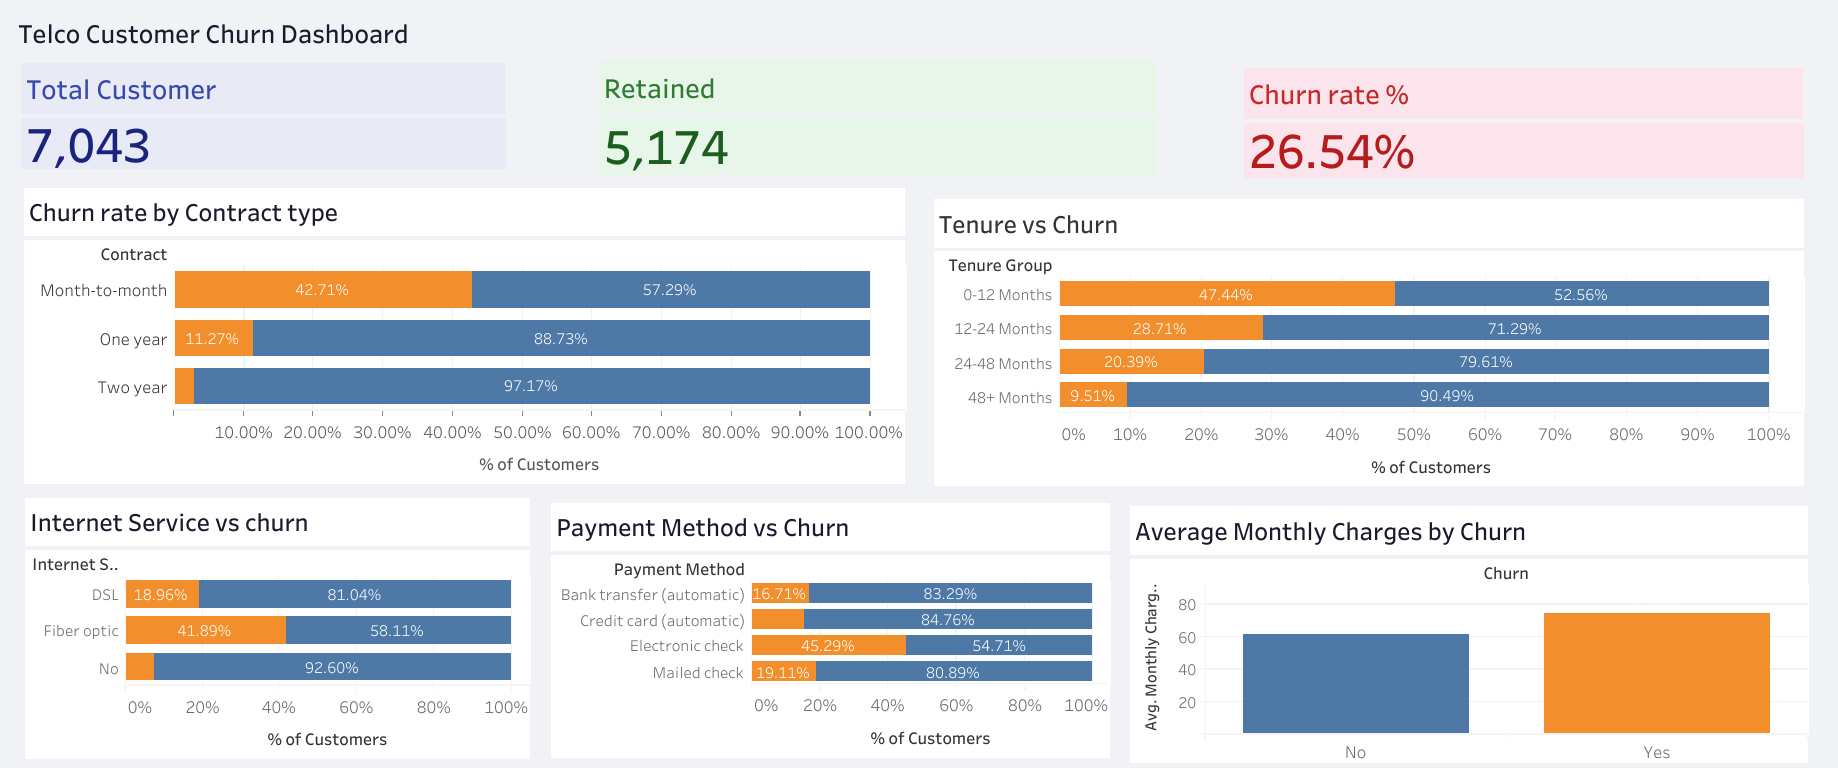

Layout of this report page (visuals, bound fields, positions):
{"tool":"tableau","page":{"name":"Dashboard 1","canvas":[1000,1000],"units":"permille","ordinal":0},"visuals":[{"type":"title","box":[6.1,13.9,987.8,62.7]},{"type":"worksheet","title":"churned customer","mark":"Automatic","box":[325.3,79.9,303.6,146.1]},{"type":"worksheet","title":"total  customer","mark":"Automatic","box":[11.5,81.2,263.1,136.1]},{"type":"worksheet","title":"churn rate","mark":"Automatic","box":[679.4,87.1,303.9,142.9]},{"type":"worksheet","title":"tenure vs churn","mark":"Automatic","rows":["Calculation_1408537793249289"],"box":[510.3,243.9,473.7,386.8]},{"type":"worksheet","title":"churn rate by contract type","mark":"Automatic","rows":["Contract"],"box":[12.7,244.7,479.2,384.5]},{"type":"worksheet","title":"internet service vs churn","mark":"Automatic","rows":["InternetService"],"box":[13.3,646.7,275.2,339.6]},{"type":"worksheet","title":"payment method vs churn","mark":"Automatic","rows":["PaymentMethod"],"box":[299.9,652.9,303.6,332.1]},{"type":"worksheet","title":"average monthly charges by churn","mark":"Bar","rows":["MonthlyCharges"],"cols":["Churn"],"box":[616.9,658.5,368.6,332.8]}]}

Visuals, with their boxes on the dashboard's canvas, which has no fixed pixel size, in thousandths of its width and height (x1, y1, x2, y2). These are canvas units, not pixel positions in the 1838x768 screenshot, which may show the page scaled, cropped or inside an application window:
title: (x1=6, y1=14, x2=994, y2=77)
"churned customer" worksheet: (x1=325, y1=80, x2=629, y2=226)
"total  customer" worksheet: (x1=12, y1=81, x2=275, y2=217)
"churn rate" worksheet: (x1=679, y1=87, x2=983, y2=230)
"tenure vs churn" worksheet: (x1=510, y1=244, x2=984, y2=631)
"churn rate by contract type" worksheet: (x1=13, y1=245, x2=492, y2=629)
"internet service vs churn" worksheet: (x1=13, y1=647, x2=288, y2=986)
"payment method vs churn" worksheet: (x1=300, y1=653, x2=604, y2=985)
"average monthly charges by churn" worksheet (Bar marks): (x1=617, y1=658, x2=986, y2=991)
